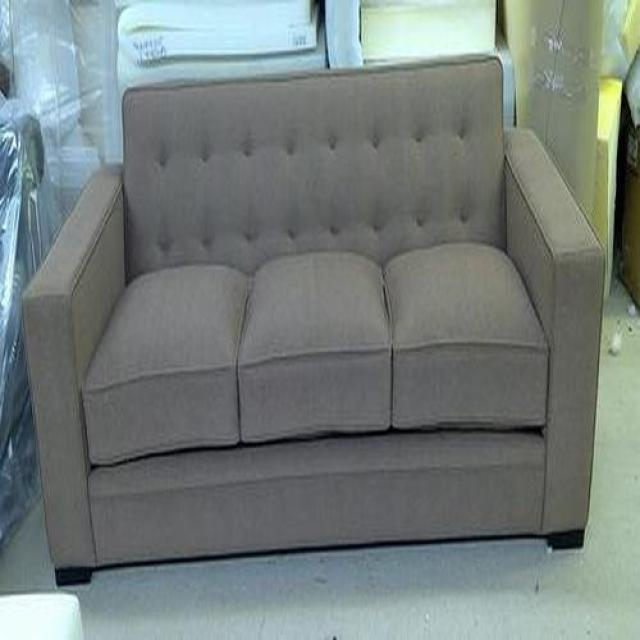sofa: (23, 54, 607, 586)
